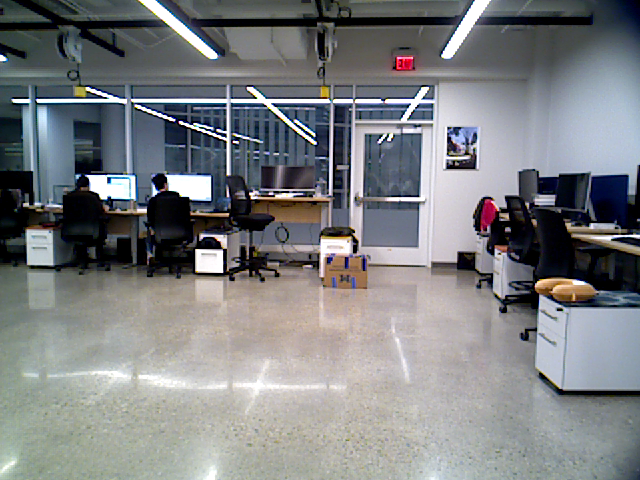painting3: (444, 127, 481, 169)
